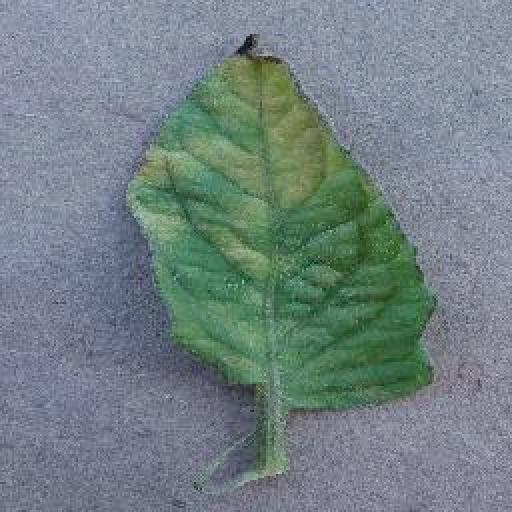disease_tomato: (128, 32, 438, 412)
